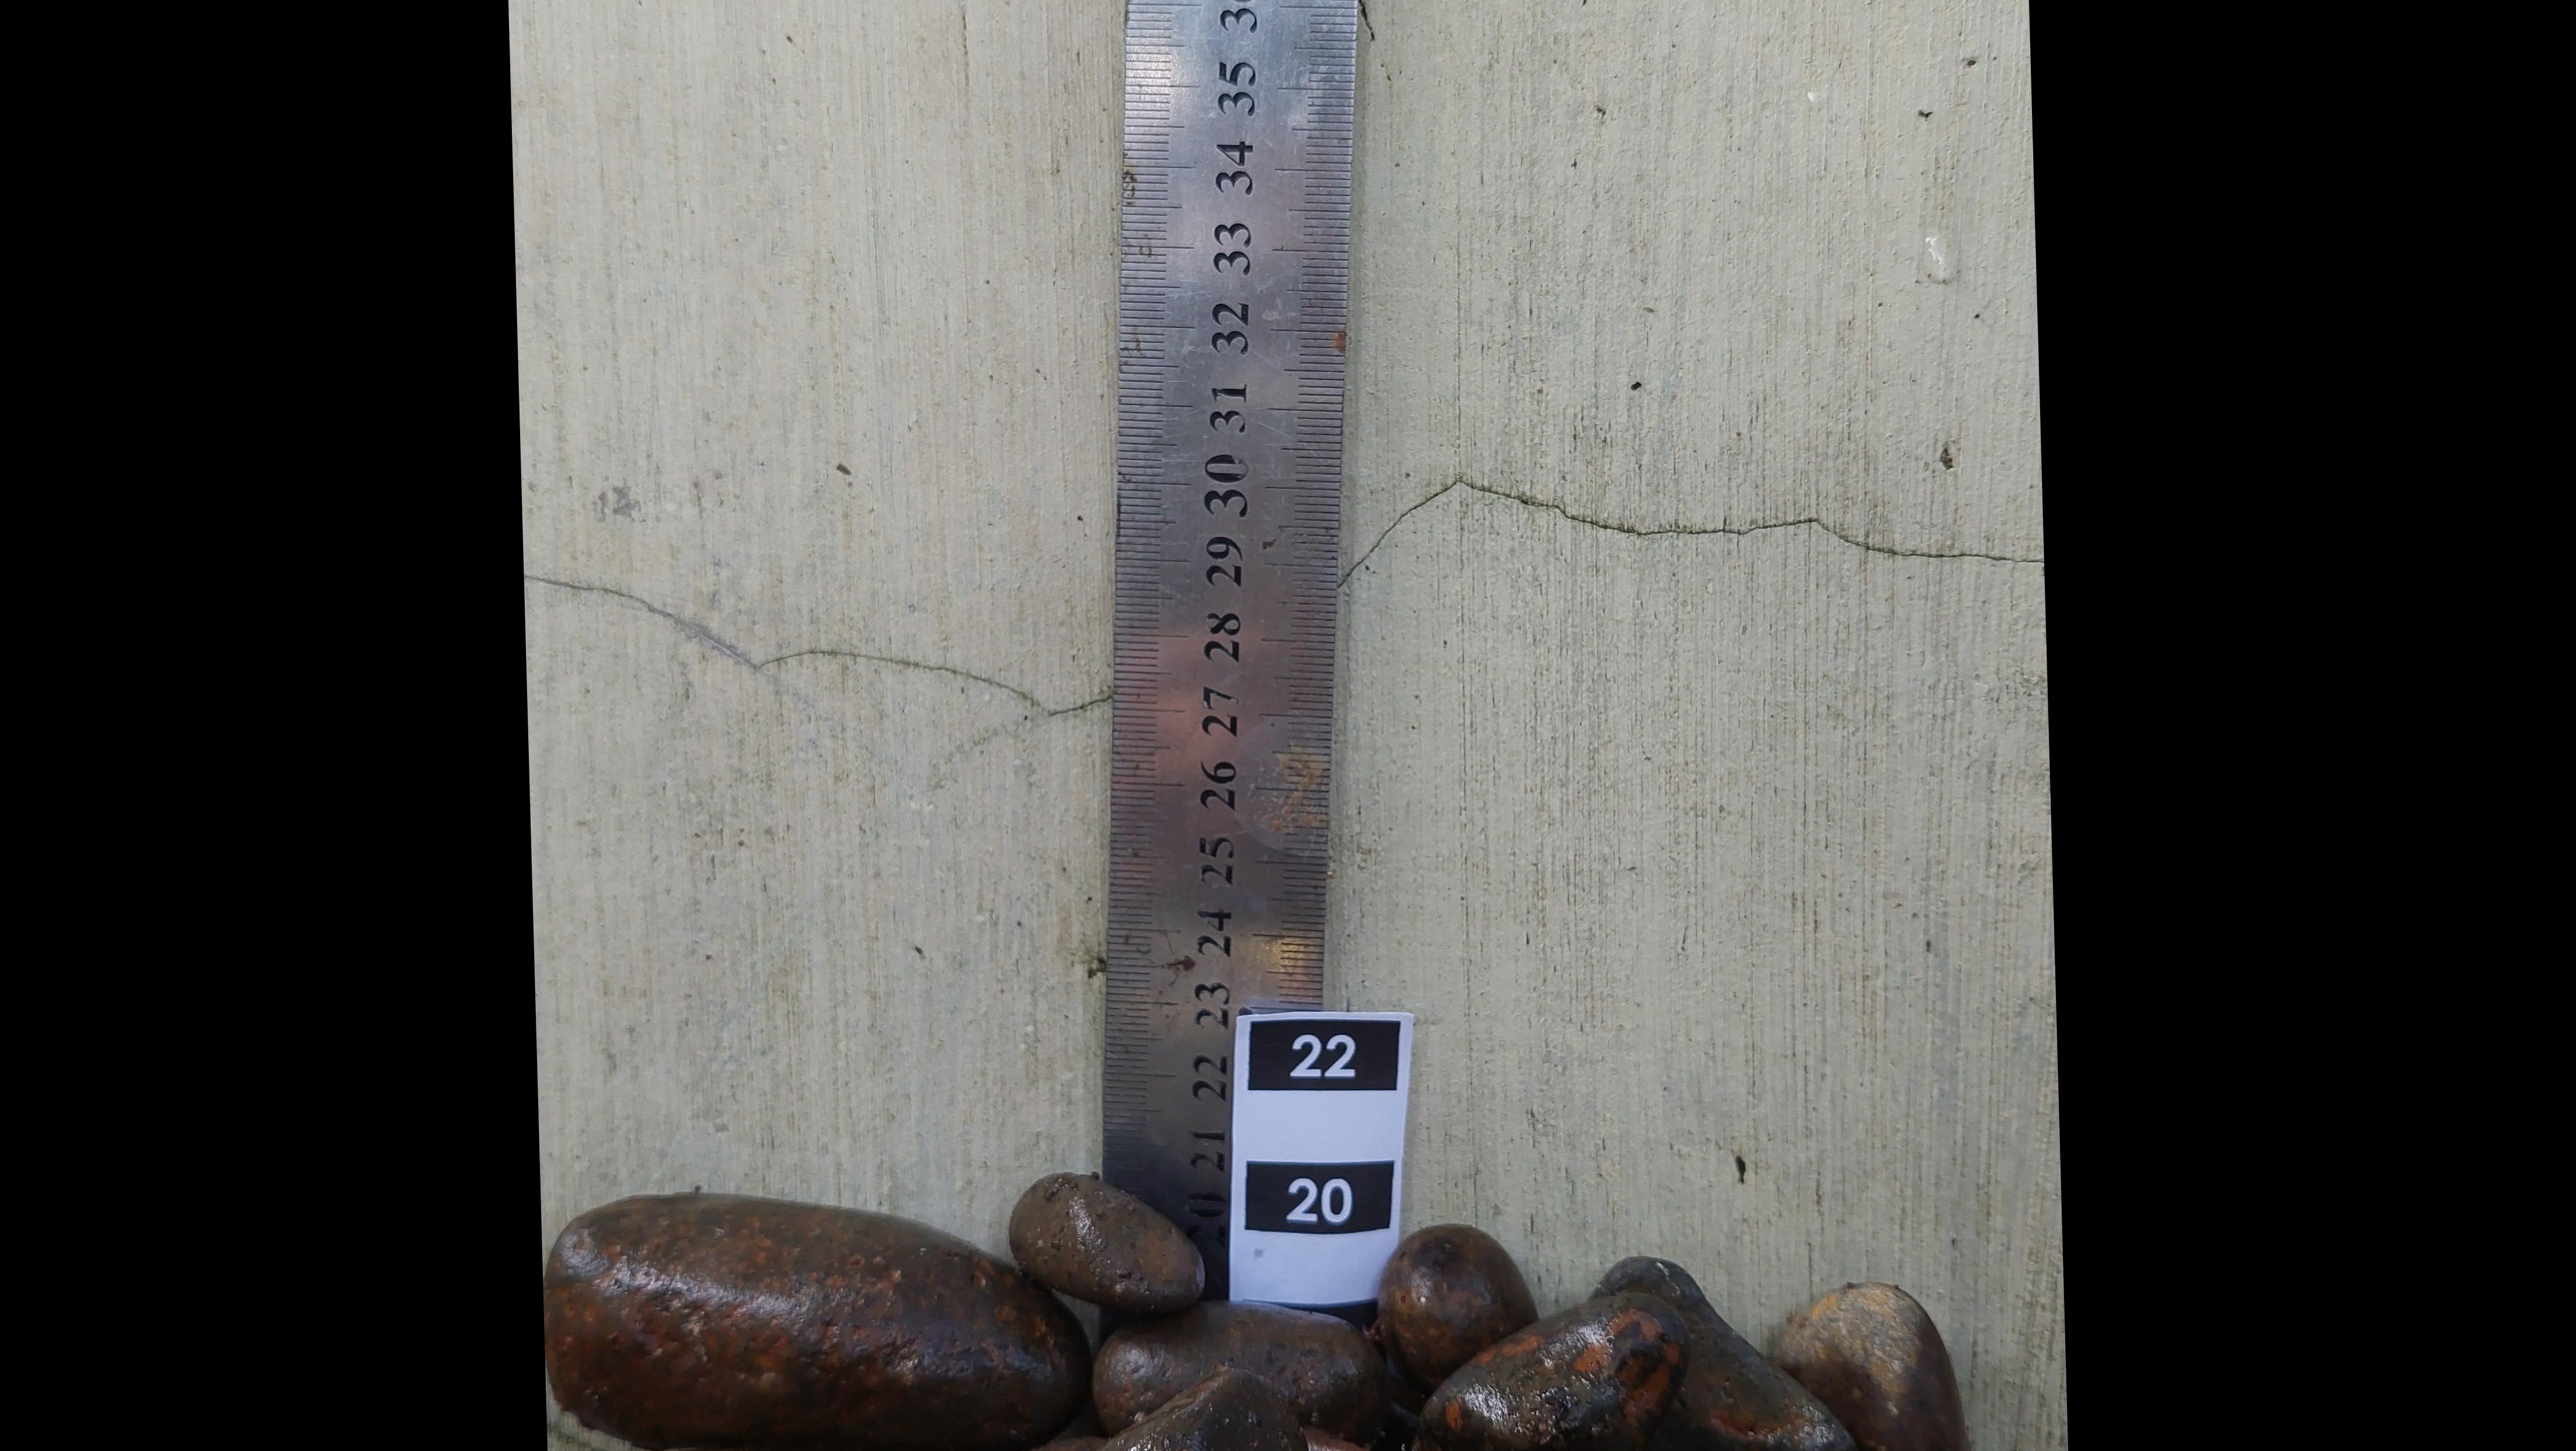kotak_2x1: (1249, 1016, 1399, 1090), (1246, 1159, 1392, 1232)
